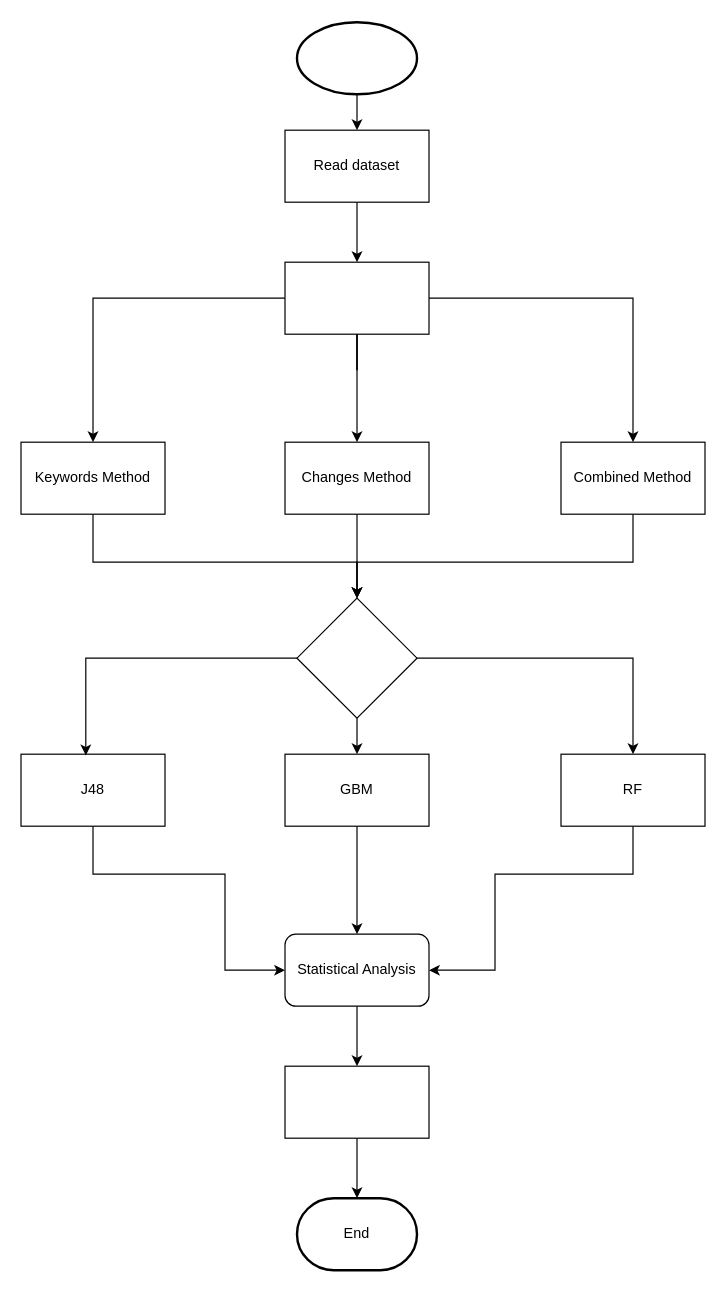
Some shapes in this 726 by 1291 pixel diagram are drawn without their labels. Here are the shapes that lost their labels. From the top down, the centre of each, then its label:
At [356,57]: "Start".
At [356,297]: "Check relevant features from research paper".
At [356,657]: "Classifier Algorithm?".
At [356,1101]: "Performance Comparison".
